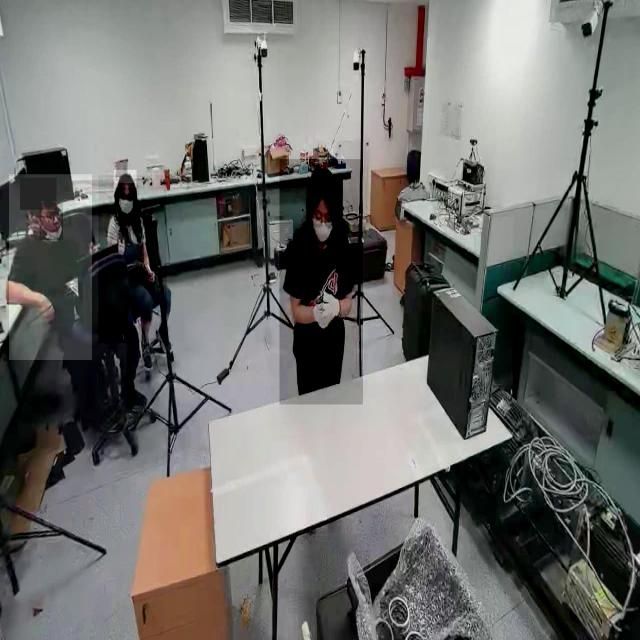face_mask: (279, 159, 363, 405), (307, 198, 334, 245), (115, 183, 138, 226)
face_nomask: (39, 203, 63, 240)
glasses: (43, 206, 63, 224), (313, 216, 335, 231)
hand_glove: (314, 282, 342, 338)
head_nohelmet: (308, 162, 336, 207), (20, 178, 56, 210), (114, 170, 136, 188)
person: (8, 174, 92, 361), (98, 175, 166, 344)
shoes: (139, 335, 155, 373)
